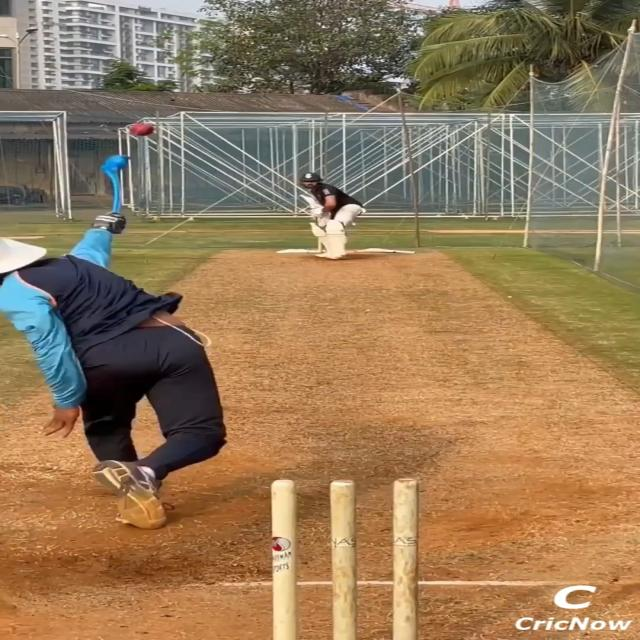ball: (128, 122, 154, 137)
stump: (265, 476, 424, 640)
